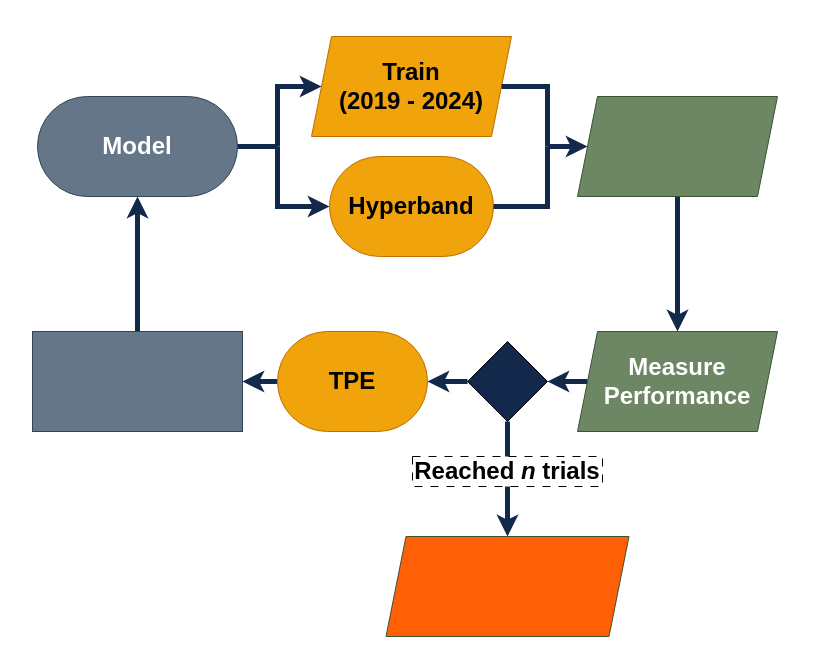
Some shapes in this 822 by 668 pixel diagram are drawn without their labels. Here are the shapes that lost their labels. From the top down, the box of each, then its label:
(576, 96, 778, 196): Predict (2025)
(32, 330, 242, 432): New Hyperparameters
(385, 536, 629, 636): Save Best Hyperparameters
